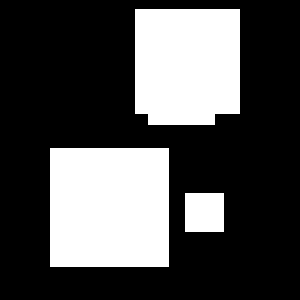circle: (50, 148, 169, 267), (135, 9, 240, 114), (148, 58, 215, 125), (185, 193, 224, 232)
